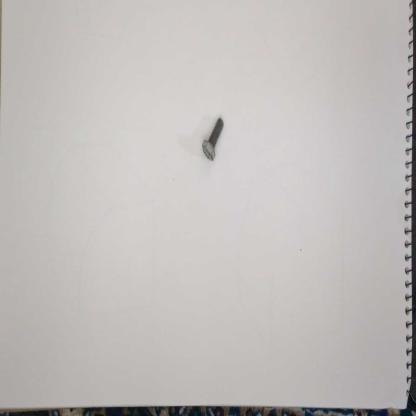Bolts: (200, 114, 228, 165)
